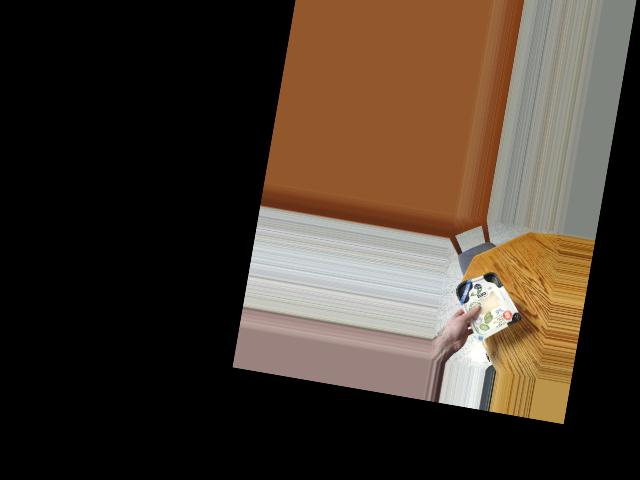cheese: (448, 266, 522, 335)
